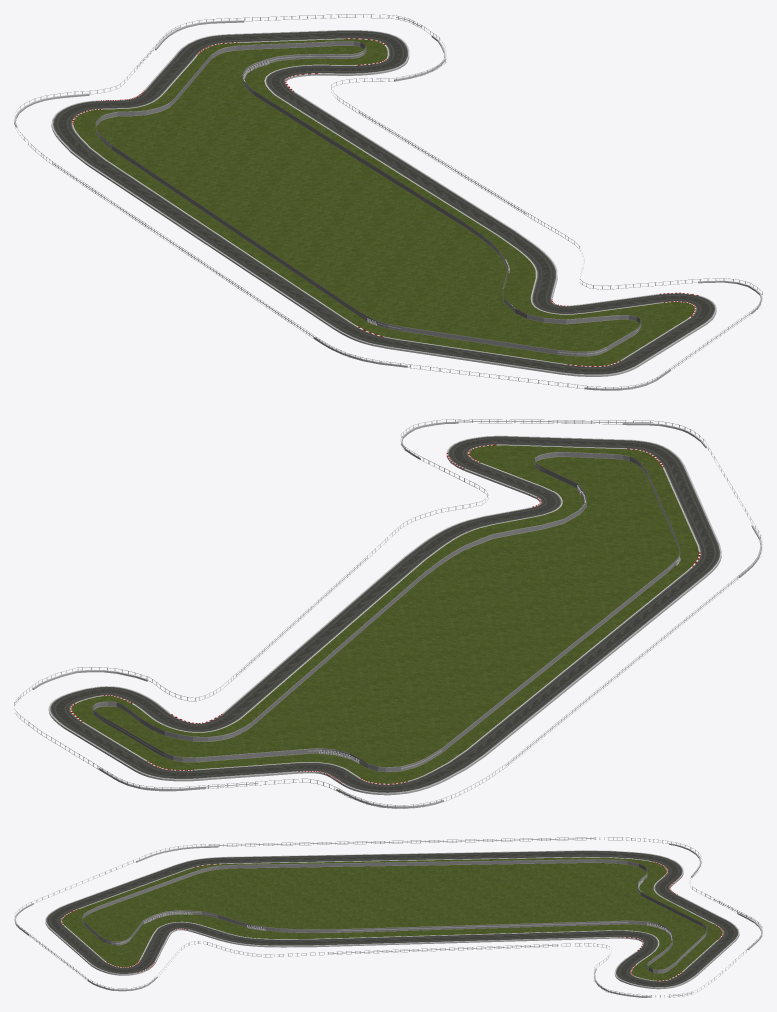
The model's file is RaceTrack2.FBX.
The picture shows the model from 3 angles, top to bottom: view 1: azimuth 30°, elevation 25°; view 2: azimuth 150°, elevation 25°; view 3: azimuth 270°, elevation 25°; orthographic projection. The views are drawn at different scales.
Parts seen in each view (by area): view 1: Ground, RaceTrack, Wall2, Wall1; view 2: Ground, RaceTrack, Wall2, Wall1; view 3: Ground, RaceTrack, Wall2, Wall1.
Boxes of the visible parts, x1,y1,x2,y2 form: Ground: [73, 39, 694, 365]; RaceTrack: [51, 30, 716, 376]; Wall2: [95, 41, 641, 356]; Wall1: [14, 14, 762, 390]; Ground: [71, 445, 698, 783]; RaceTrack: [48, 435, 721, 795]; Wall2: [92, 452, 680, 772]; Wall1: [14, 419, 762, 808]; Ground: [62, 857, 722, 980]; RaceTrack: [45, 850, 739, 989]; Wall2: [82, 859, 707, 973]; Wall1: [14, 837, 762, 997].
Size of what is drawn, in the model's own units: 87.32 by 1.28 by 175.
